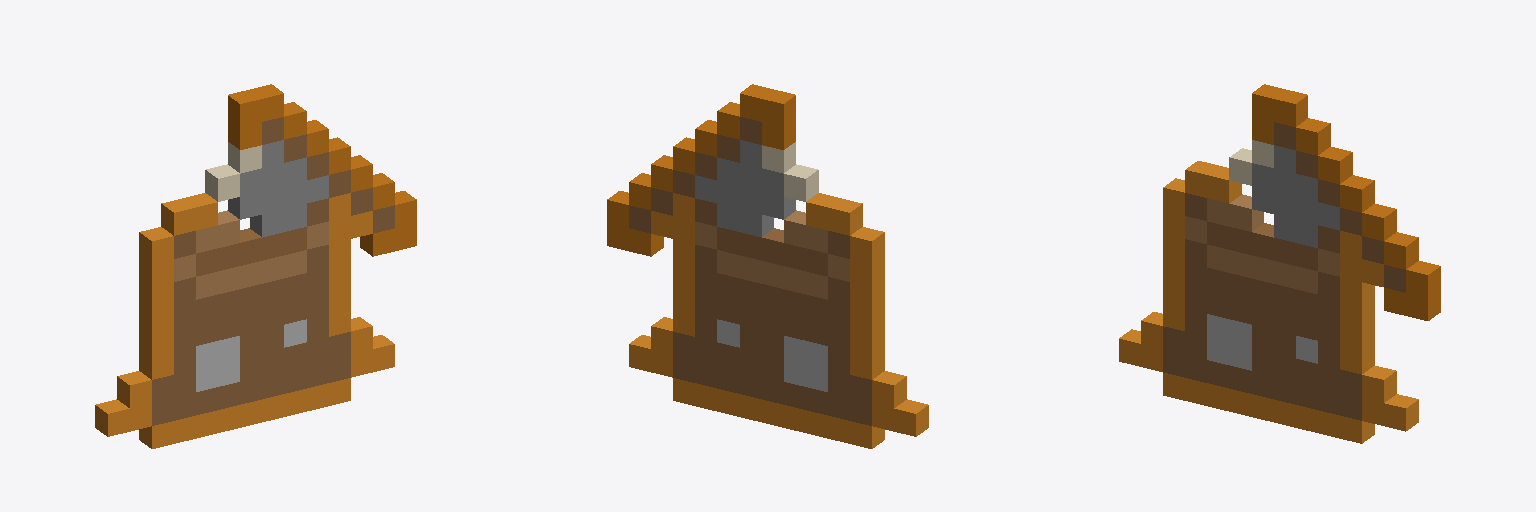
3 renders of one model, left to right at view 1: azimuth 30°, elevation 25°; view 2: azimuth 150°, elevation 25°; view 3: azimuth 330°, elevation 25°, orthographic.
Size of the model in its own units: 14 by 14 by 1.
Materials: 1 (1 with a texture image).